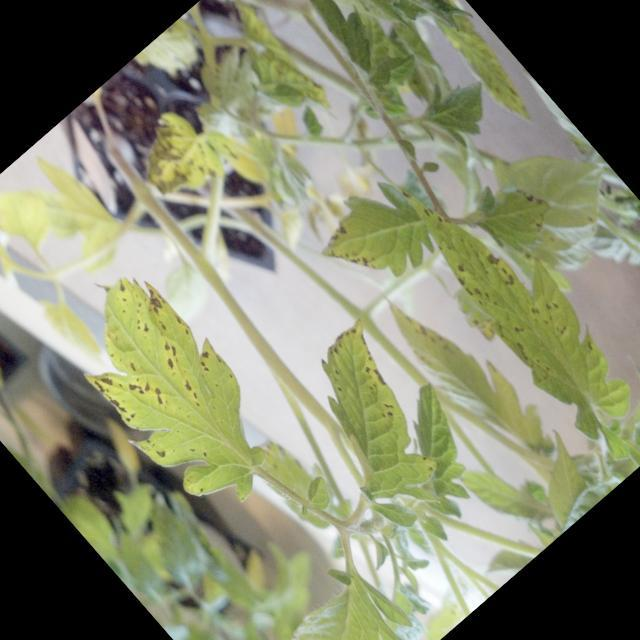Tomato Septoria spot leaf: (366, 137, 640, 457), (28, 245, 302, 532), (267, 307, 496, 544), (300, 156, 460, 314), (109, 88, 244, 226), (241, 547, 437, 640), (459, 161, 573, 276)
Tomato healthy leaf: (262, 0, 415, 100), (413, 59, 508, 154)
